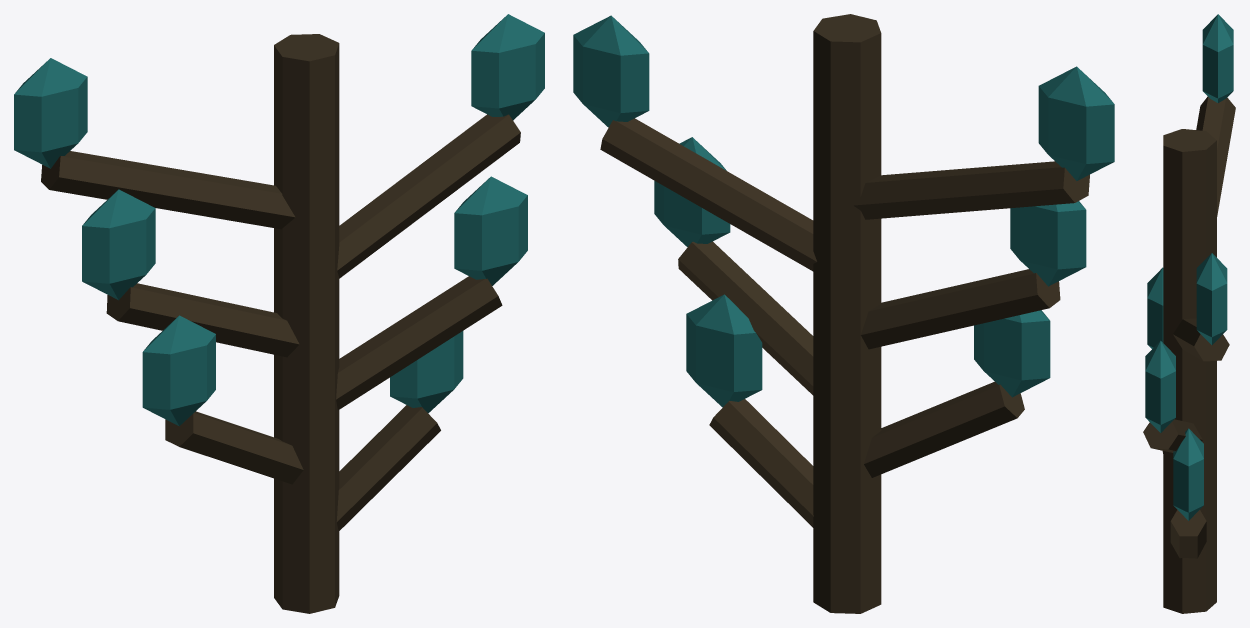
Rendered from plant_branch_b.obj.
3 views of the same model, side by side, from view 1: azimuth 30°, elevation 25°; view 2: azimuth 150°, elevation 25°; view 3: azimuth 270°, elevation 25° (orthographic). The views are drawn at different scales.
Parts seen in each view (by area): view 1: trunk, branch_5, branch_4, branch_2, branch_3, polyp_1, polyp_3, polyp_5, polyp_2, polyp_4, branch_0, branch_1 (+1 smaller); view 2: trunk, branch_4, branch_5, branch_3, branch_2, branch_1, polyp_5, polyp_4, polyp_0, branch_0, polyp_3, polyp_1 (+1 smaller); view 3: trunk, polyp_4, polyp_5, polyp_2, polyp_0, branch_5, branch_0, branch_4, polyp_1, branch_2.
Boxes of the visible parts, left/top/right/bottom form: trunk: left=274, top=34, right=339, bottom=613; branch_5: left=41, top=151, right=295, bottom=229; branch_4: left=337, top=114, right=520, bottom=278; branch_2: left=336, top=276, right=502, bottom=410; branch_3: left=106, top=283, right=299, bottom=357; polyp_1: left=142, top=315, right=215, bottom=426; polyp_3: left=82, top=189, right=155, bottom=300; polyp_5: left=14, top=58, right=87, bottom=168; polyp_2: left=454, top=176, right=527, bottom=285; polyp_4: left=471, top=14, right=544, bottom=120; branch_0: left=336, top=405, right=440, bottom=531; branch_1: left=165, top=411, right=303, bottom=484; trunk: left=813, top=14, right=881, bottom=613; branch_4: left=600, top=118, right=816, bottom=271; branch_5: left=853, top=161, right=1089, bottom=219; branch_3: left=861, top=269, right=1060, bottom=349; branch_2: left=678, top=241, right=813, bottom=395; branch_1: left=864, top=381, right=1024, bottom=477; polyp_5: left=1038, top=66, right=1114, bottom=180; polyp_4: left=573, top=15, right=649, bottom=127; polyp_0: left=686, top=294, right=762, bottom=407; branch_0: left=709, top=399, right=813, bottom=527; polyp_3: left=1010, top=201, right=1086, bottom=286; polyp_1: left=974, top=310, right=1050, bottom=397; trunk: left=1163, top=129, right=1216, bottom=613; polyp_4: left=1196, top=253, right=1227, bottom=344; polyp_5: left=1202, top=14, right=1233, bottom=102; polyp_2: left=1145, top=340, right=1175, bottom=432; polyp_0: left=1173, top=428, right=1203, bottom=520; branch_5: left=1196, top=96, right=1235, bottom=216; branch_0: left=1170, top=510, right=1206, bottom=558; branch_4: left=1173, top=318, right=1229, bottom=361; polyp_1: left=1147, top=267, right=1163, bottom=348; branch_2: left=1143, top=419, right=1202, bottom=452.
Size of the model in its own units: 1.99 by 2.11 by 0.3626.
